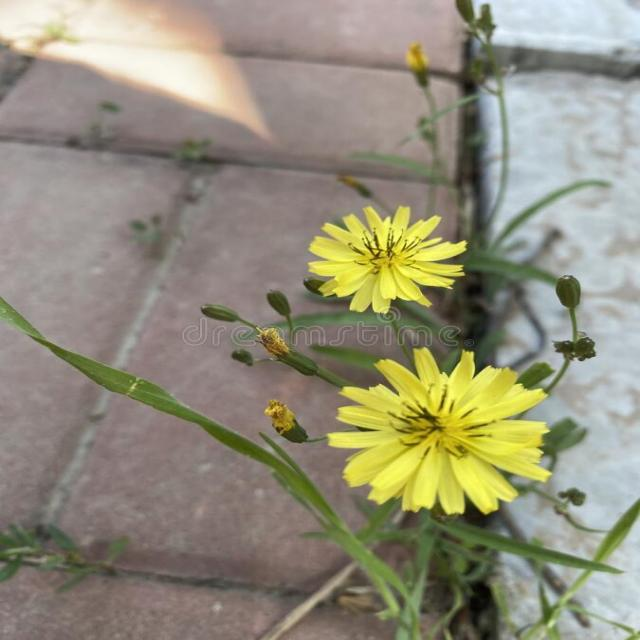organic waste: (323, 339, 564, 509), (304, 197, 482, 301)
